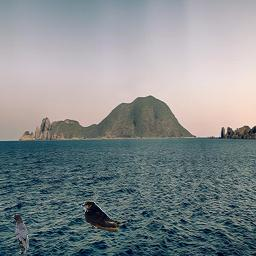Crow: (11, 214, 29, 254)
Swallow: (81, 201, 121, 232)
